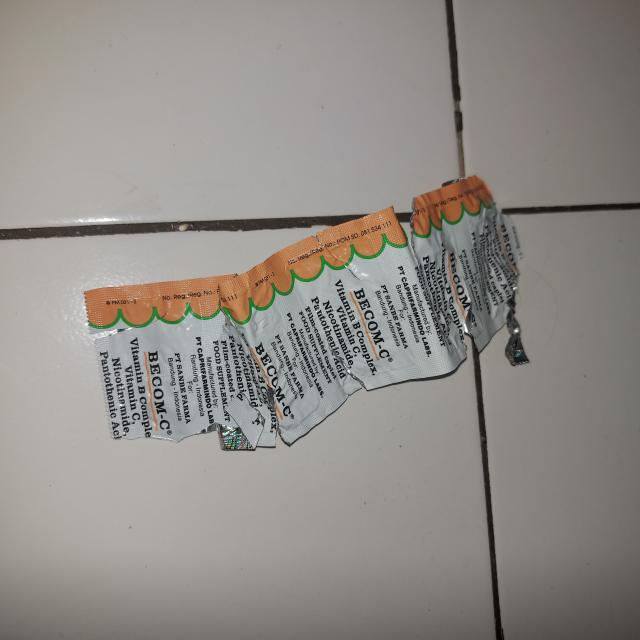Anorganik: (84, 175, 524, 451)
